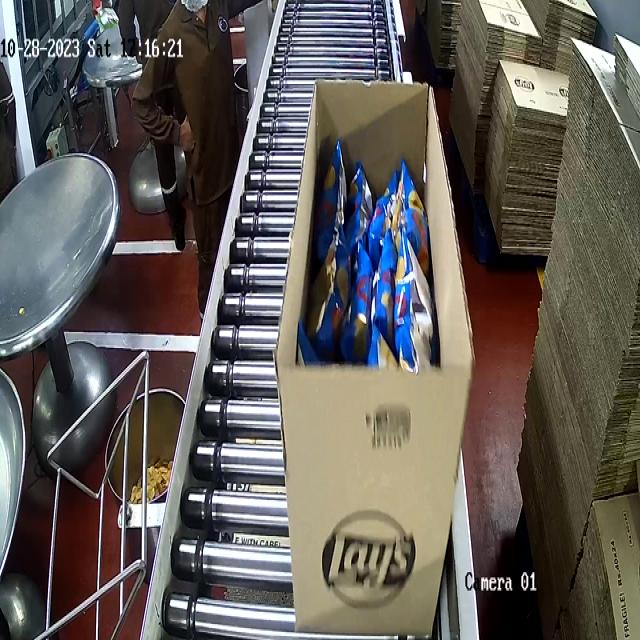PAPRIKA: (312, 141, 433, 361)
